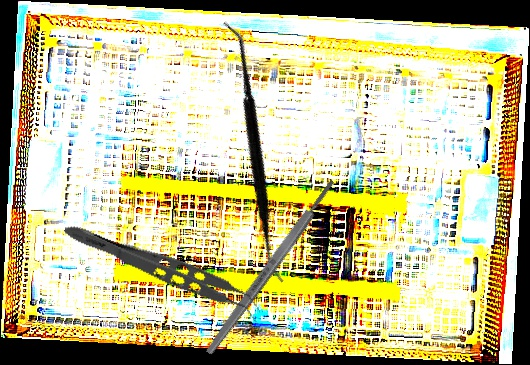Scalpel Handle: (202, 177, 339, 357)
Spatula Surgical: (124, 19, 382, 286)
Tissue Forceps: (56, 219, 268, 325)
